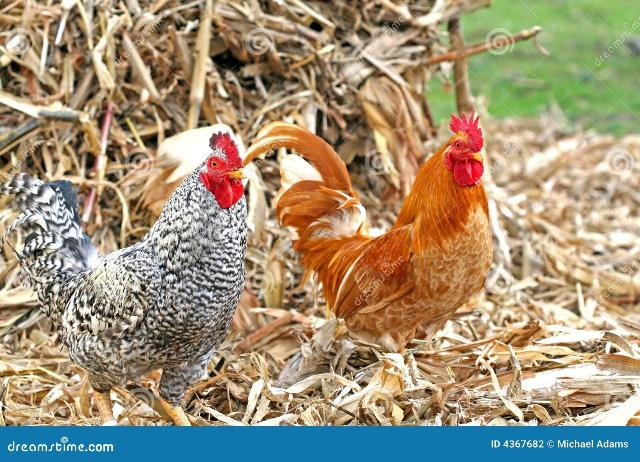Chicken: (0, 131, 247, 426), (241, 107, 495, 359)
